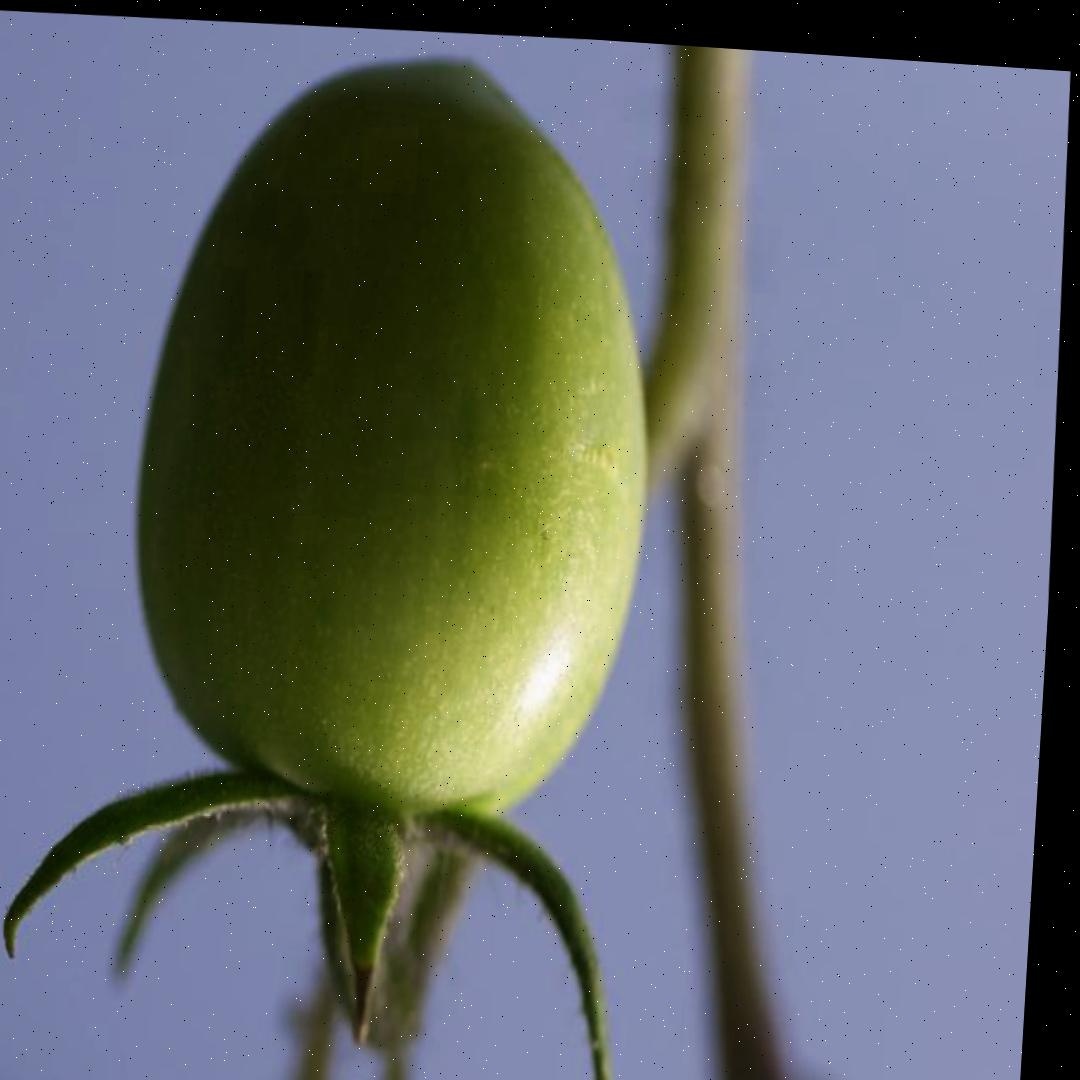mentah: (105, 30, 680, 864)
